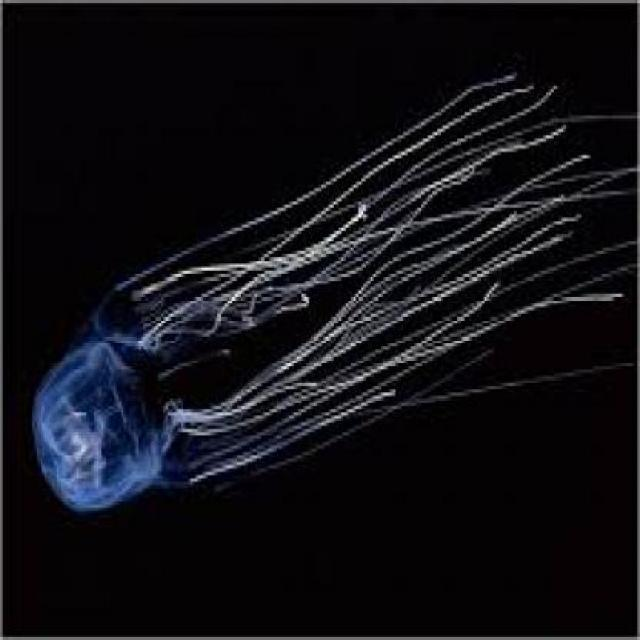Jellyfish: (24, 73, 638, 512)
